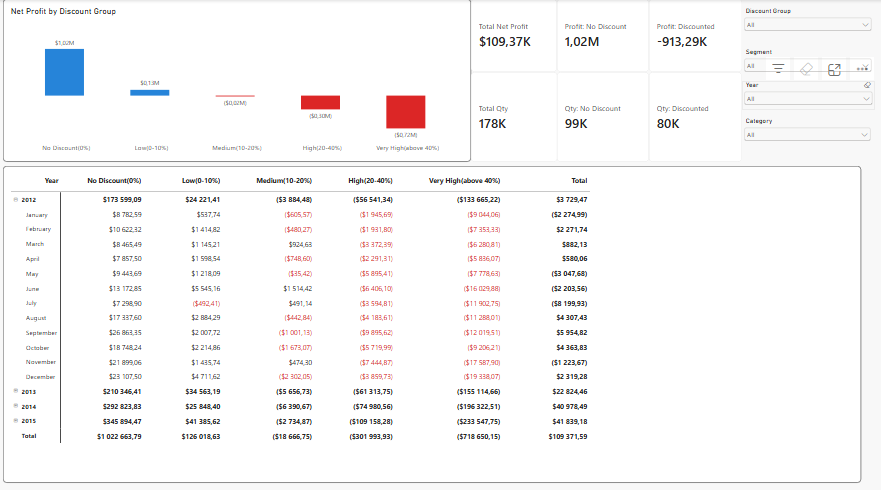

Layout of this report page (visuals, bound fields, positions):
{"tool":"powerbi","page":{"name":"Discount Analysis","canvas":[1920,1080],"ordinal":2},"visuals":[{"type":"lineChart","fields":{"Category":["Fact_Orders.Discount"],"Y":["_Measures.Net Profit TTL $"]},"box":[10.8,0,1014.9,353.5],"z":0},{"type":"pivotTable","fields":{"Rows":["Dim_Calendar.Date.Variation.Date Hierarchy.Year","Dim_Calendar.Date.Variation.Date Hierarchy.Month"],"Columns":["Fact_Orders.Discount"],"Values":["_Measures.Net Profit TTL $"]},"box":[10.8,362.2,1860.7,687.5],"z":1000},{"type":"cardVisual","fields":{"Data":["_Measures.Net Profit TTL $"]},"box":[1025.8,0,186.5,158.3],"z":2000},{"type":"slicer","fields":{"Values":["Fact_Orders.Discount"]},"box":[1708.9,17.3,186.5,62.9],"z":3000},{"type":"slicer","fields":{"Values":["Dim_Calendar.Date.Variation.Date Hierarchy.Year"]},"box":[1486.6,0,189,231.8],"z":4000},{"type":"cardVisual","fields":{"Data":["Sum(Fact_Orders.Quantity)"]},"box":[1026,158,187,195],"z":5000},{"type":"cardVisual","fields":{"Data":["_Measures.Qty w/o Discount"]},"box":[1212.3,158.3,199.5,195.2],"z":6000},{"type":"cardVisual","fields":{"Data":["_Measures.Net Profit w/o Discount"]},"box":[1212.3,0,199.5,158.3],"z":7000},{"type":"slicer","fields":{"Values":["Dim_Customers.Segment"]},"box":[1708.9,86.7,186.5,180],"z":8000},{"type":"slicer","fields":{"Values":["Dim_Product.Product Hierarchy.Category"]},"box":[1489.9,221.2,184.3,141],"z":9000}]}

Visuals, with their boxes in screenshot pixels (x1, y1, x2, y2), scaled from the page's 1920x1080 canvas onto the 881x490 screenshot:
lineChart - Fact_Orders.Discount x _Measures.Net Profit TTL $: [5, 0, 471, 160]
pivotTable - Dim_Calendar.Date.Variation.Date Hierarchy.Year x Dim_Calendar.Date.Variation.Date Hierarchy.Month: [5, 164, 859, 476]
cardVisual - _Measures.Net Profit TTL $: [471, 0, 556, 72]
slicer - Fact_Orders.Discount: [784, 8, 870, 36]
slicer - Dim_Calendar.Date.Variation.Date Hierarchy.Year: [682, 0, 769, 105]
cardVisual - Sum(Fact_Orders.Quantity): [471, 72, 557, 160]
cardVisual - _Measures.Qty w/o Discount: [556, 72, 648, 160]
cardVisual - _Measures.Net Profit w/o Discount: [556, 0, 648, 72]
slicer - Dim_Customers.Segment: [784, 39, 870, 121]
slicer - Dim_Product.Product Hierarchy.Category: [684, 100, 768, 164]
